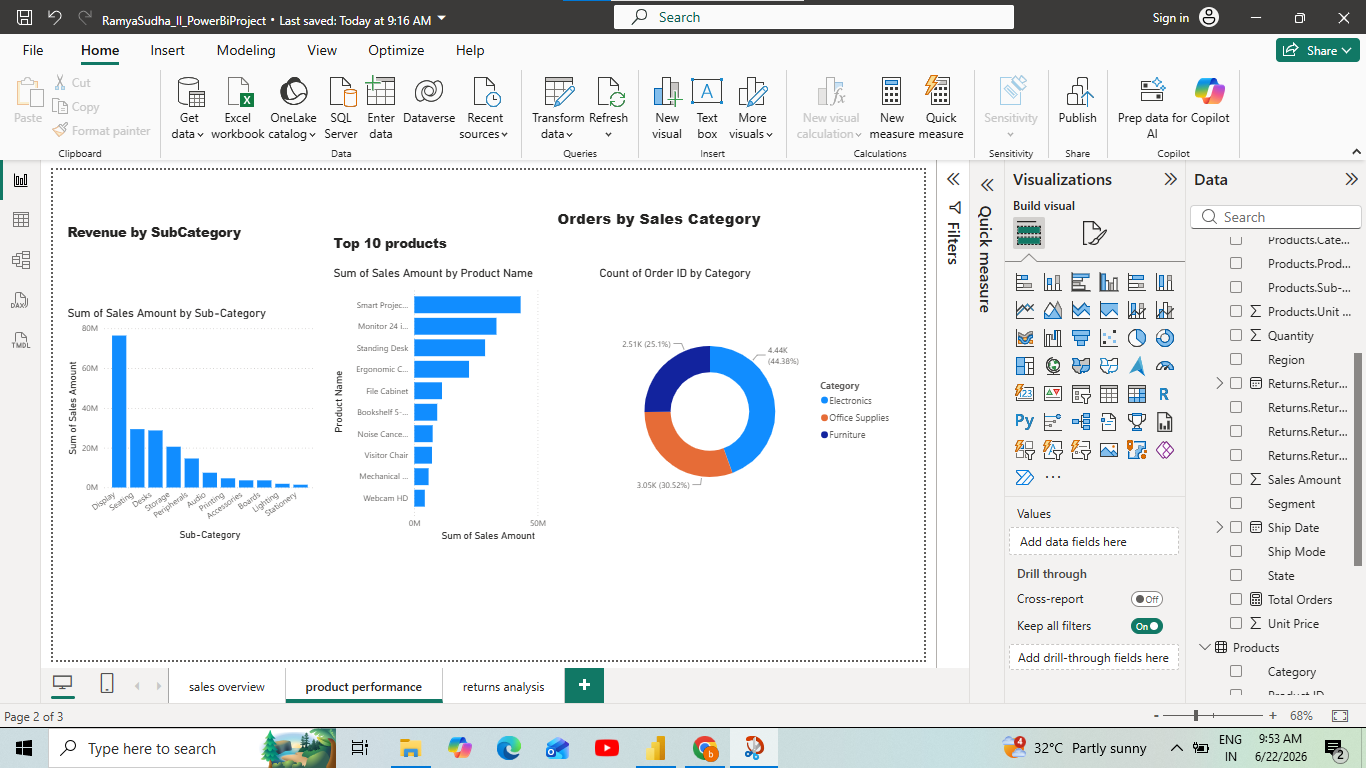

This screenshot's page, from the dashboard's own definition file:
{"tool":"powerbi","page":{"name":"product performance","canvas":[1280,720],"ordinal":1},"visuals":[{"type":"clusteredBarChart","fields":{"Category":["Products.Product Name"],"Y":["Sum(Orders.Sales Amount)"]},"box":[407.5,141.1,358.6,409],"z":0},{"type":"textbox","box":[407.5,87.8,311,53.3],"z":1000},{"type":"textbox","box":[15.8,72,279.4,51.8],"z":2000},{"type":"clusteredColumnChart","fields":{"Category":["Products.Sub-Category"],"Y":["Sum(Orders.Sales Amount)"]},"box":[15.8,200.2,374.4,349.9],"z":3000},{"type":"textbox","box":[737.3,51.8,319.7,72],"z":4000},{"type":"donutChart","fields":{"Category":["Products.Category"],"Y":["CountNonNull(Orders.Order ID)"]},"box":[799.2,141.1,445,409],"z":5000}]}

Visuals, with their boxes on the page's 1280x720 design canvas (x1, y1, x2, y2). These are canvas units, not pixel positions in the 1366x768 screenshot, which may show the page scaled, cropped or inside an application window:
clusteredBarChart - Products.Product Name x Sum(Orders.Sales Amount): [408, 141, 766, 550]
textbox: [408, 88, 718, 141]
textbox: [16, 72, 295, 124]
clusteredColumnChart - Products.Sub-Category x Sum(Orders.Sales Amount): [16, 200, 390, 550]
textbox: [737, 52, 1057, 124]
donutChart - Products.Category x CountNonNull(Orders.Order ID): [799, 141, 1244, 550]
